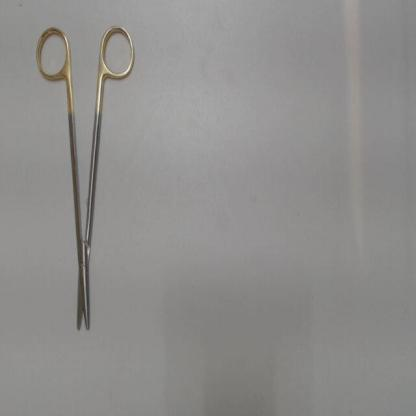7 Metzenbaum Scissors: (32, 18, 142, 341)
